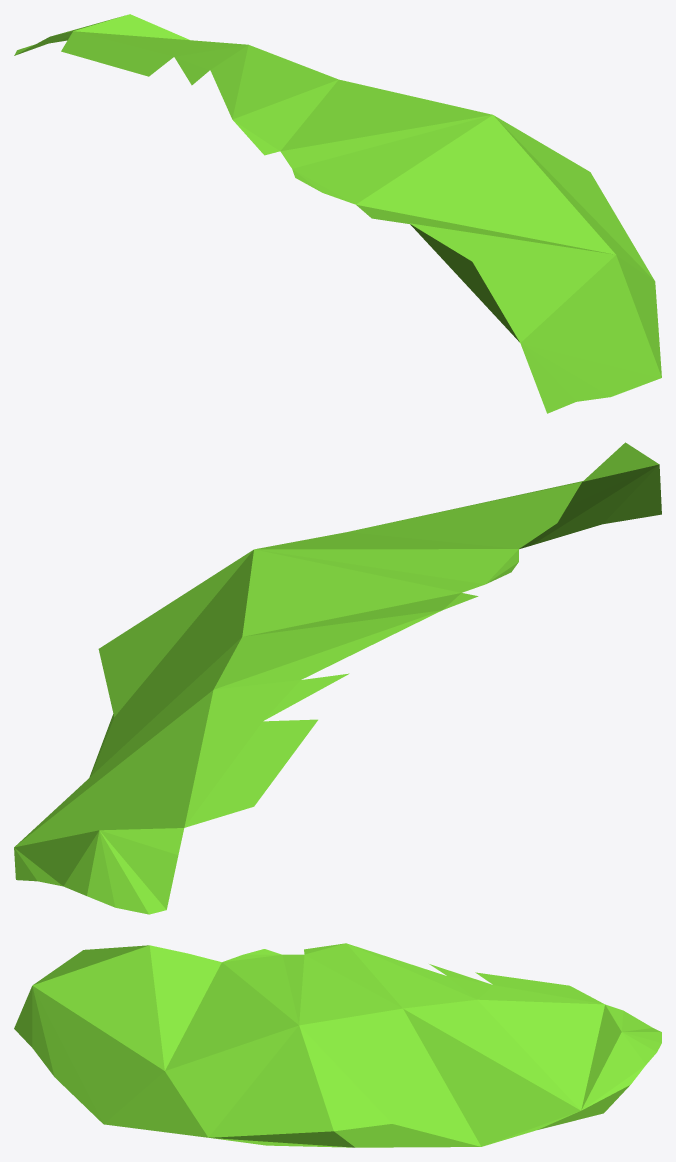
The model's file is Floor moss.fbx.
3 views of the same model, one above another, from view 1: azimuth 30°, elevation 25°; view 2: azimuth 150°, elevation 25°; view 3: azimuth 270°, elevation 25° (orthographic). The views are drawn at different scales.
Parts seen in each view (by area): view 1: Floor moss; view 2: Floor moss; view 3: Floor moss.
Part boxes in pixels (x1,y1,x2,y2): Floor moss: (14,14,661,413); Floor moss: (14,442,661,914); Floor moss: (14,943,661,1147).
Bounding box in the file's own units: 558 × 313 × 1426.
